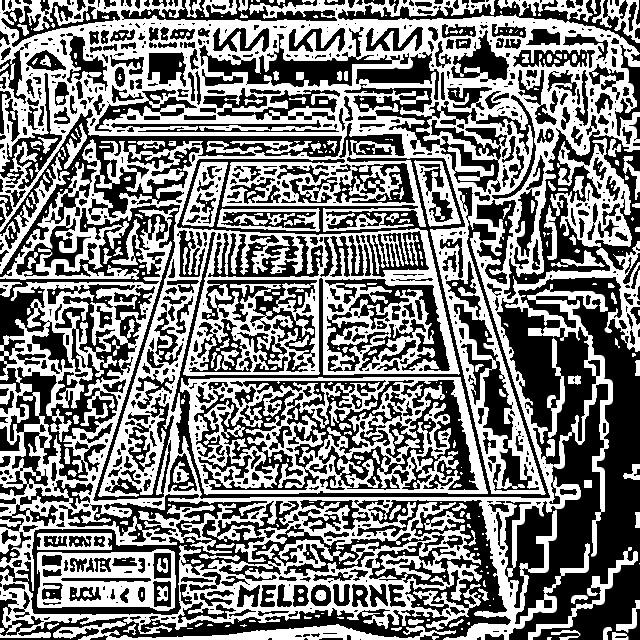left side: (94, 161, 231, 500), (412, 159, 549, 497)
player: (157, 374, 205, 511), (336, 94, 356, 162)
